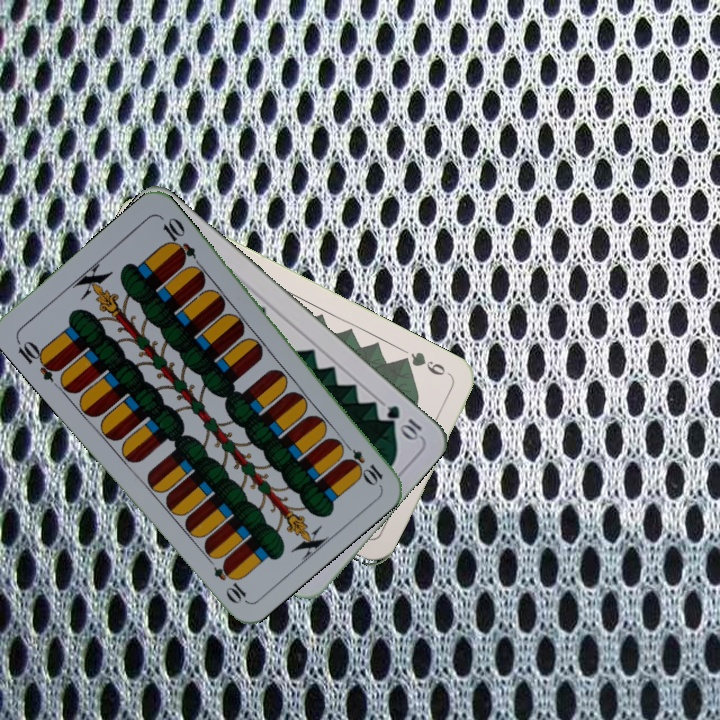E10: (12, 335, 63, 384), (338, 437, 386, 487)
G10: (382, 401, 425, 443)
G9: (397, 347, 449, 379)
